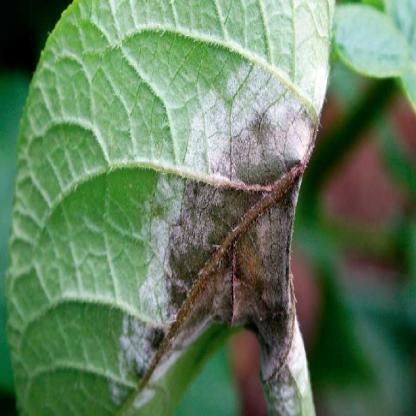Potato leaf late blight: (9, 1, 337, 415)
